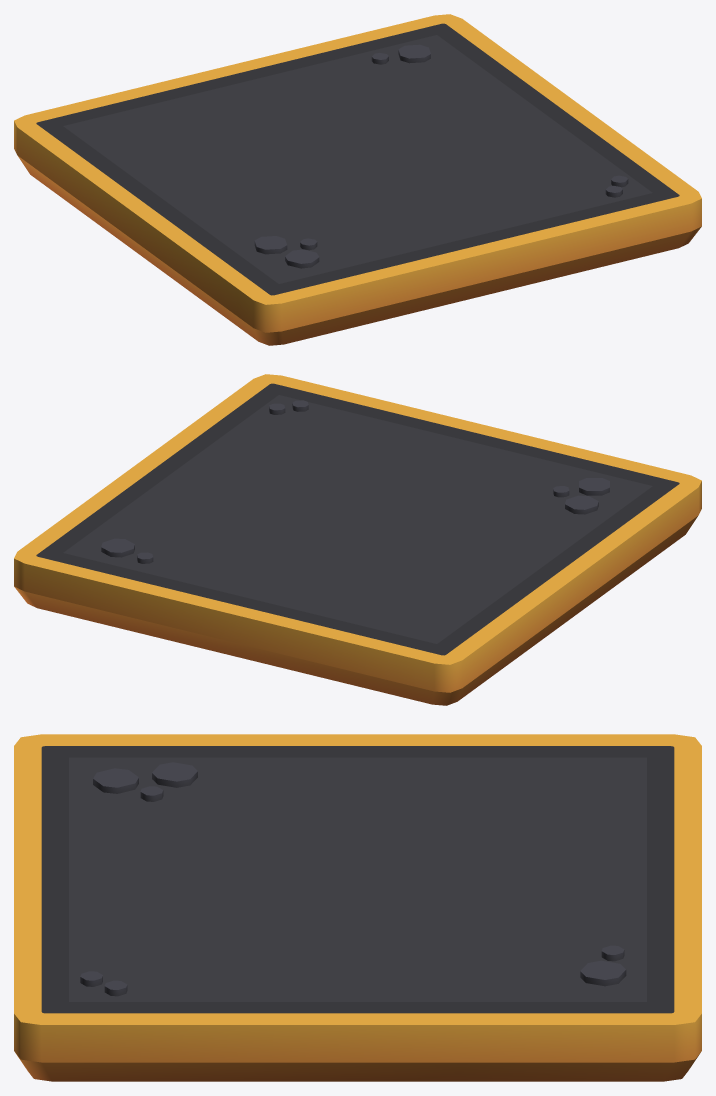
File: PlatformLarge.fbx
The picture shows the model from 3 angles, top to bottom: view 1: azimuth 30°, elevation 25°; view 2: azimuth 150°, elevation 25°; view 3: azimuth 270°, elevation 25°; orthographic projection. The views are drawn at different scales.
Parts seen in each view (by area): view 1: platform-large; view 2: platform-large; view 3: platform-large.
Part boxes in pixels (x1,y1,x2,y2): platform-large: [14, 14, 701, 345]; platform-large: [14, 374, 701, 705]; platform-large: [14, 734, 701, 1081].
Bounding box in the file's own units: 500 × 55 × 500.
